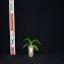leaf: (21, 38, 31, 45), (31, 42, 40, 49), (31, 40, 41, 46), (23, 44, 31, 49), (33, 45, 38, 51)
